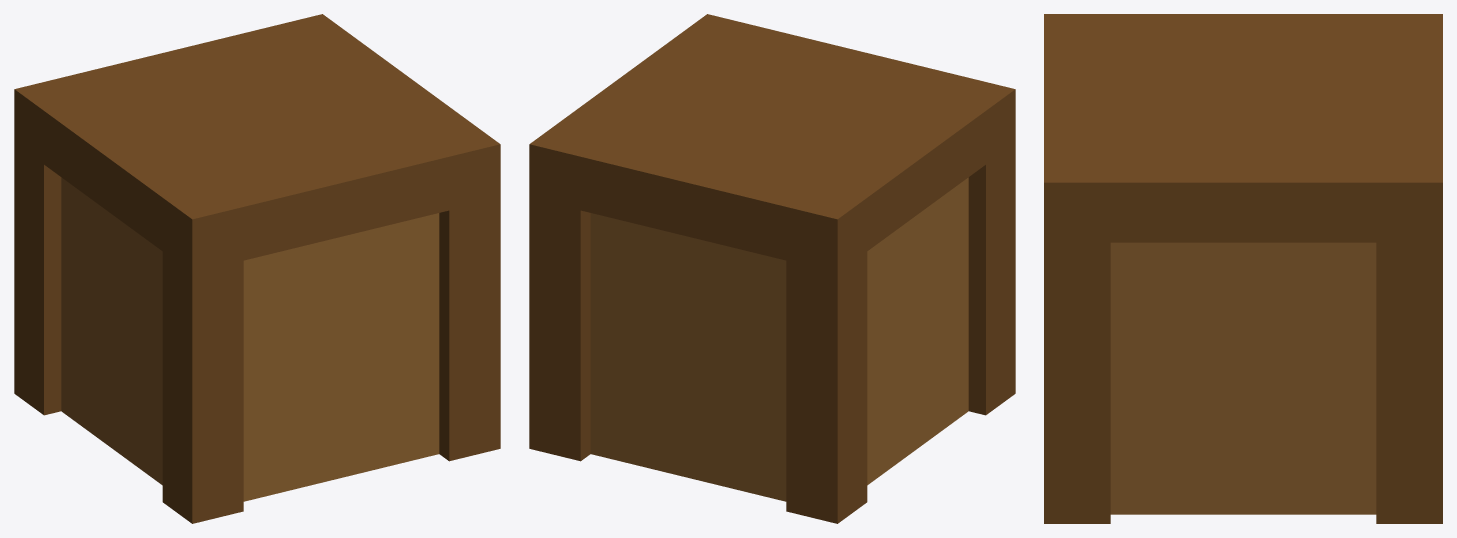
Rendered from crate.glb.
3 views of the same model, side by side, from view 1: azimuth 30°, elevation 25°; view 2: azimuth 150°, elevation 25°; view 3: azimuth 270°, elevation 25° (orthographic). The views are drawn at different scales.
Visible parts, largest first — view 1: crate; view 2: crate; view 3: crate.
Part boxes in pixels (x1=…): crate: x1=14, y1=14, x2=500, y2=523; crate: x1=529, y1=14, x2=1015, y2=523; crate: x1=1044, y1=14, x2=1442, y2=523.
Size of the model in its own units: 1.12 by 1.06 by 1.12.
